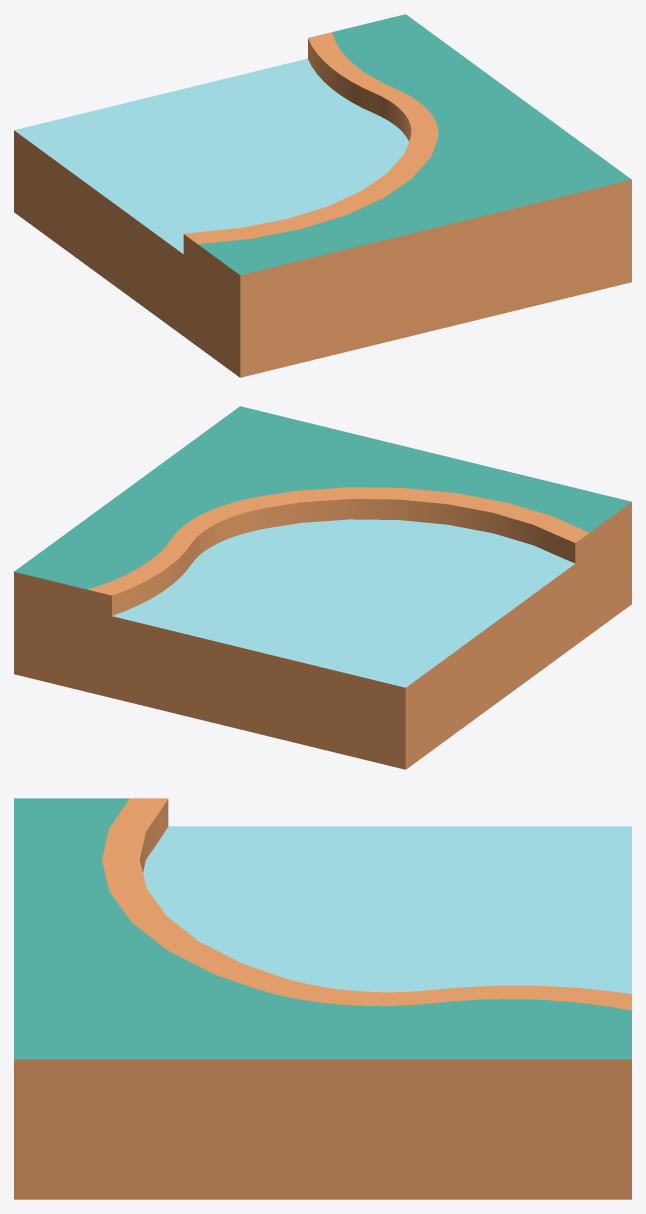
File: ground_river_edge_corner.obj
3 renders of one model, top to bottom at view 1: azimuth 30°, elevation 25°; view 2: azimuth 150°, elevation 25°; view 3: azimuth 270°, elevation 25°, orthographic. The views are drawn at different scales.
Parts seen in each view (by area): view 1: ground_dirtRiverSideCorner; view 2: ground_dirtRiverSideCorner; view 3: ground_dirtRiverSideCorner.
Part boxes in pixels (<box>): ground_dirtRiverSideCorner: <box>14,14,631,377</box>; ground_dirtRiverSideCorner: <box>14,406,631,769</box>; ground_dirtRiverSideCorner: <box>14,798,631,1199</box>.
Size of the model in its own units: 10 by 2.5 by 10.
